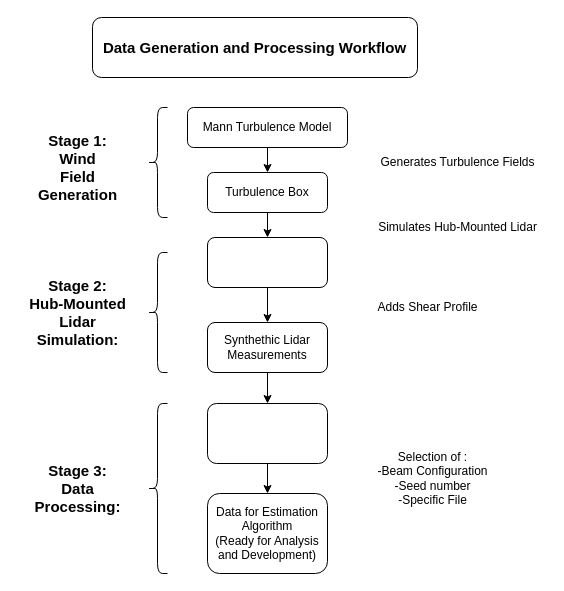
This 564x591 diagram has some shape labels left out. The centre of each missing label's shape, as x and y in pixels:
"Data Extraction and processing (Python)" belongs at pixel 267 433.
"HAWC2 Simulation Tool" belongs at pixel 267 262.
